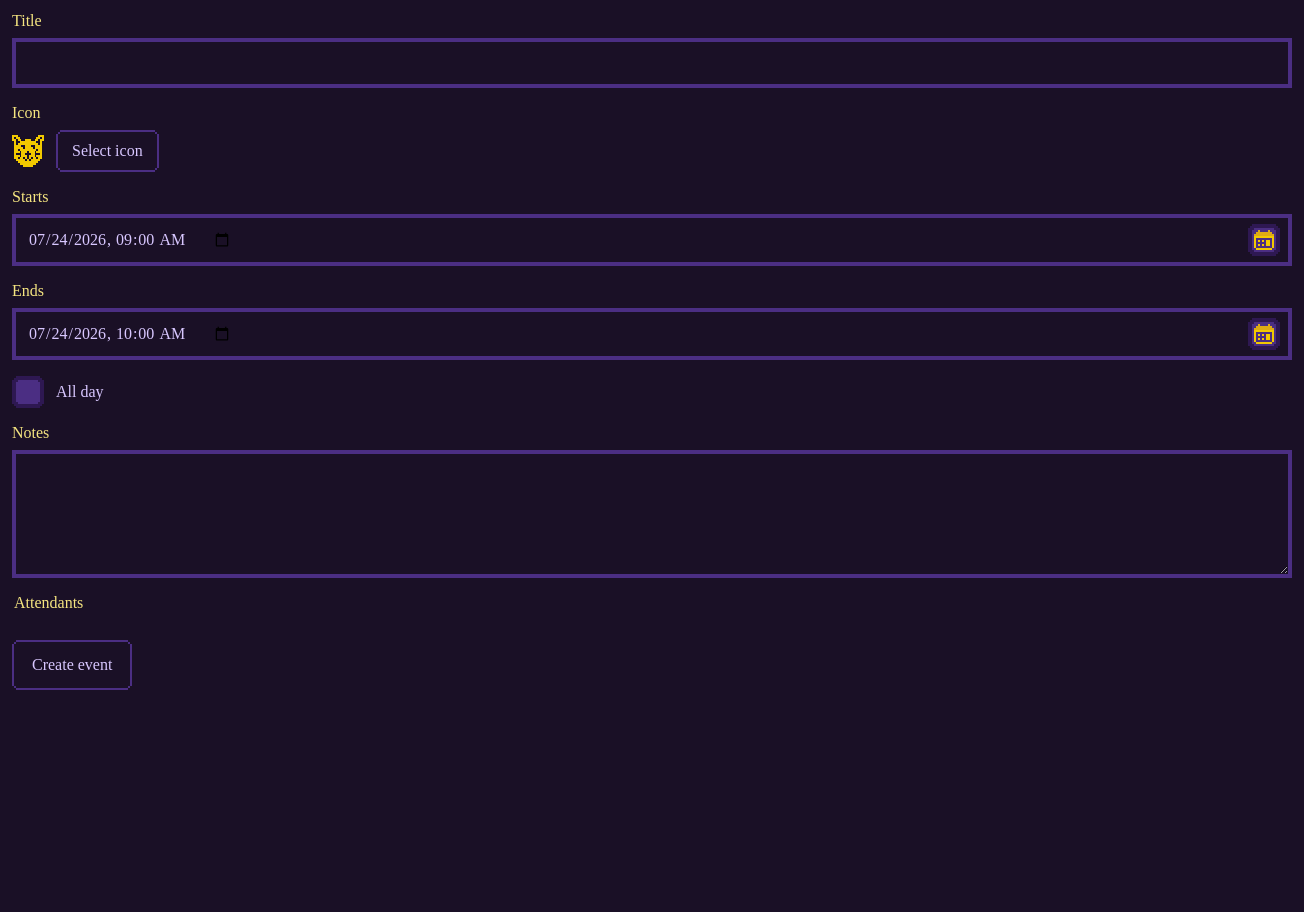
Test: EventForm › moves the end time to one hour after the selected start time
Replace the text in the field labelled "Starts" with "2026-07-24T23:30": (652, 240) [12,214,1292,266]
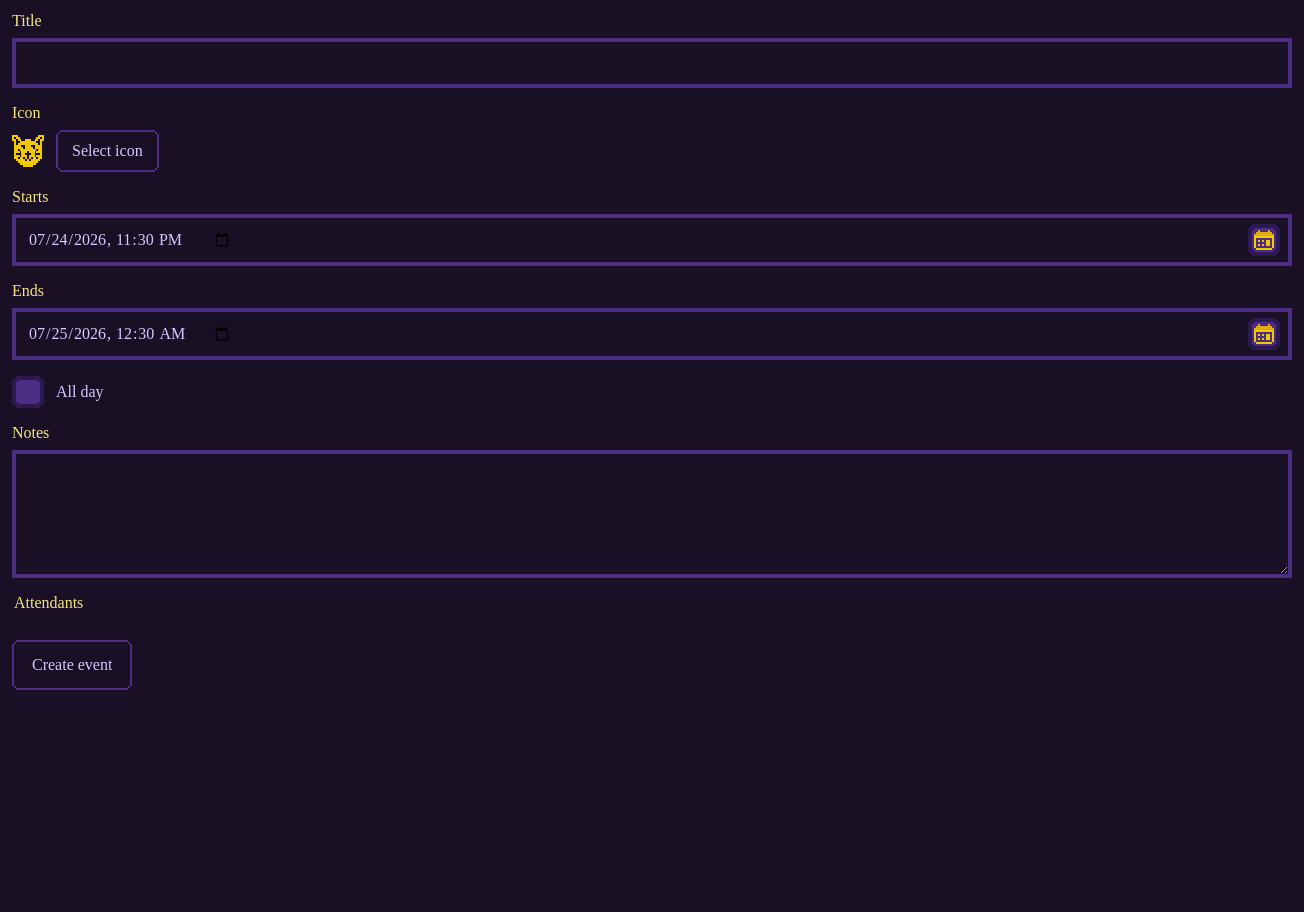
Expected: the field labelled "Ends" holds "2026-07-25T00:30", [12,308,1292,360]
